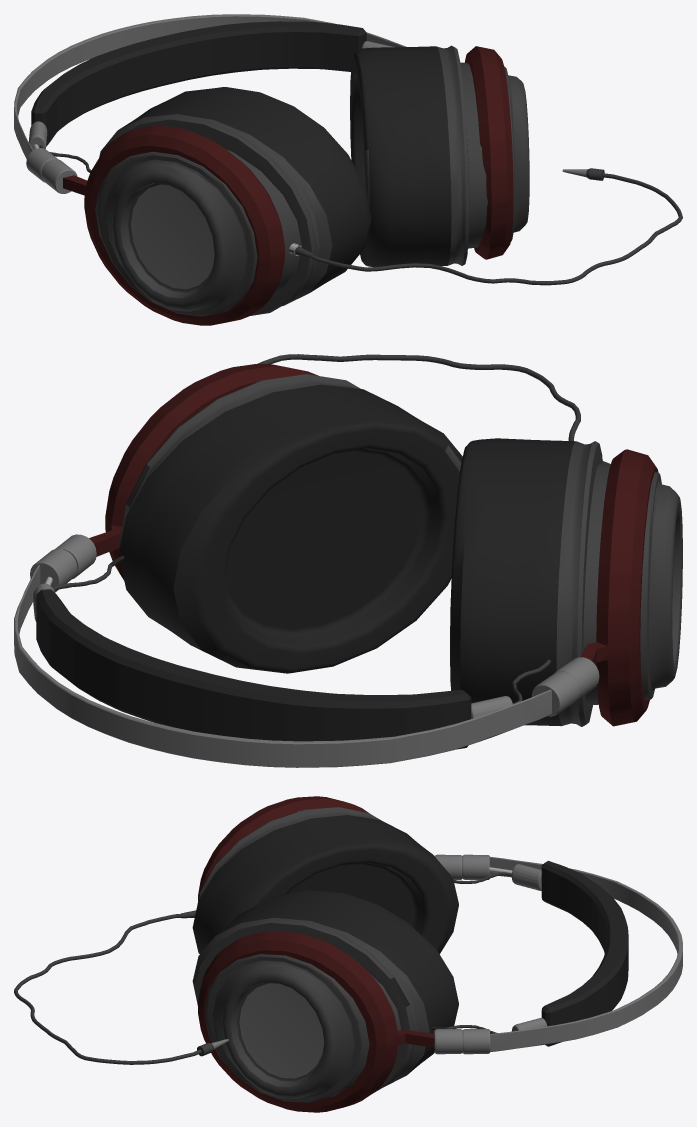
File: heyrntol.fbx
3 views of the same model, one above another, from view 1: azimuth 30°, elevation 25°; view 2: azimuth 150°, elevation 25°; view 3: azimuth 270°, elevation 25° (orthographic). The views are drawn at different scales.
Parts seen in each view (by area): view 1: pasted__pasted__pCylinder4; view 2: pasted__pasted__pCylinder4; view 3: pasted__pasted__pCylinder4.
Boxes of the visible parts, <box> form: pasted__pasted__pCylinder4: <box>14,14,682,325</box>; pasted__pasted__pCylinder4: <box>14,354,682,767</box>; pasted__pasted__pCylinder4: <box>14,796,682,1112</box>.
Bounding box in the file's own units: 16.6 × 6.76 × 23.25.
